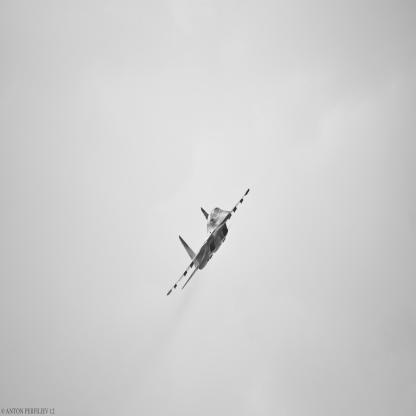Su34: (168, 189, 251, 297)
